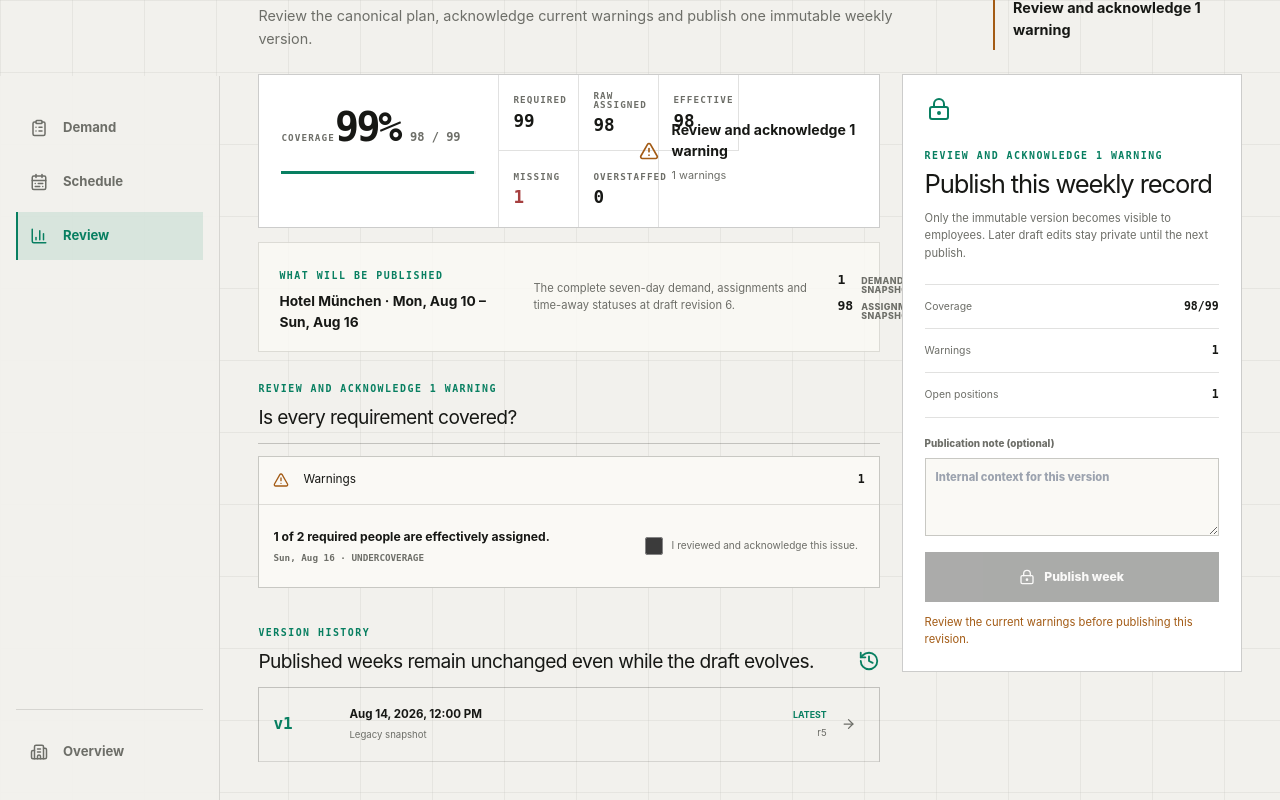
Test: BusinessReviewPage › labels legacy history honestly when canonical coverage is unavailable
(page scrolled)
Check: the text "Legacy snapshot" is shown, box [349, 729, 427, 740]
What coordinates should you click on to do the following:
click the button with aria-label "Open version v1"
I would click on:
 (416, 714)
Its box is [259, 688, 879, 762].
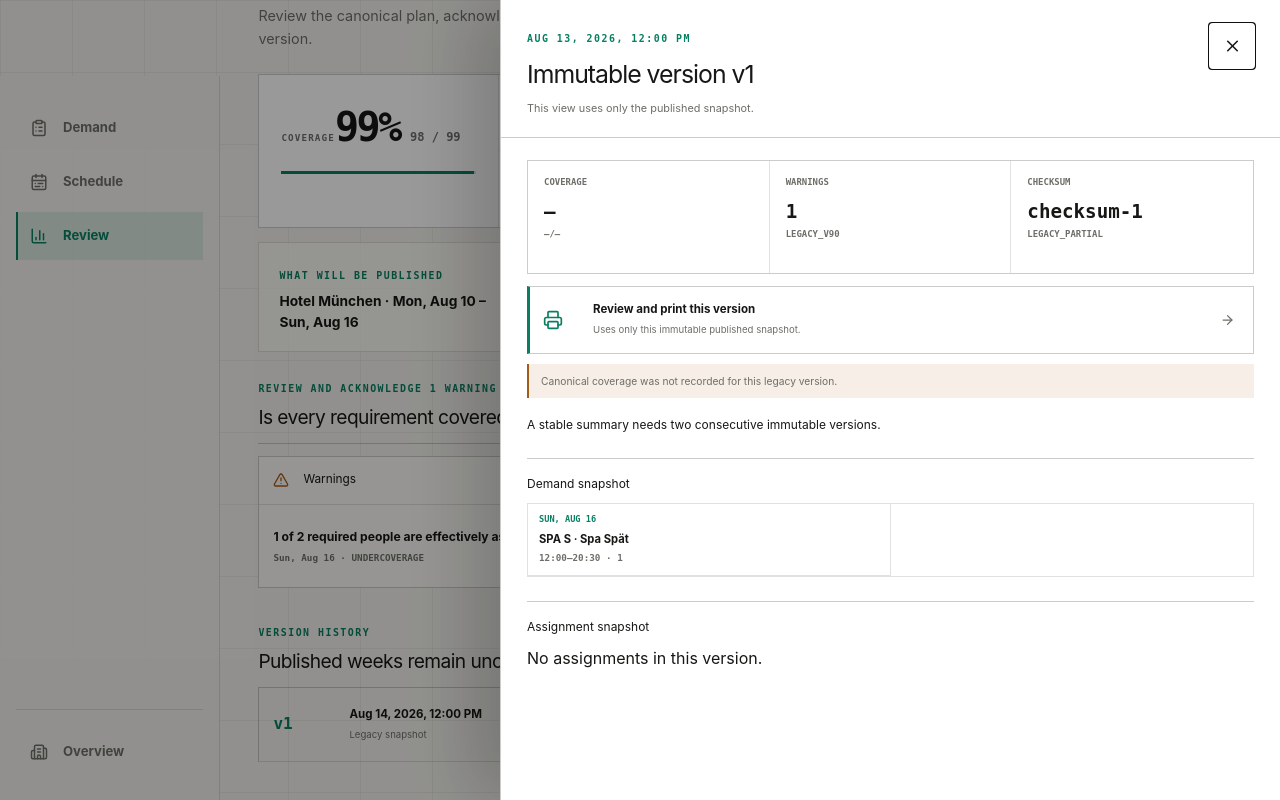
Check: the text "Canonical coverage was not recorded for this legacy version." is shown, box [527, 364, 1254, 398]
